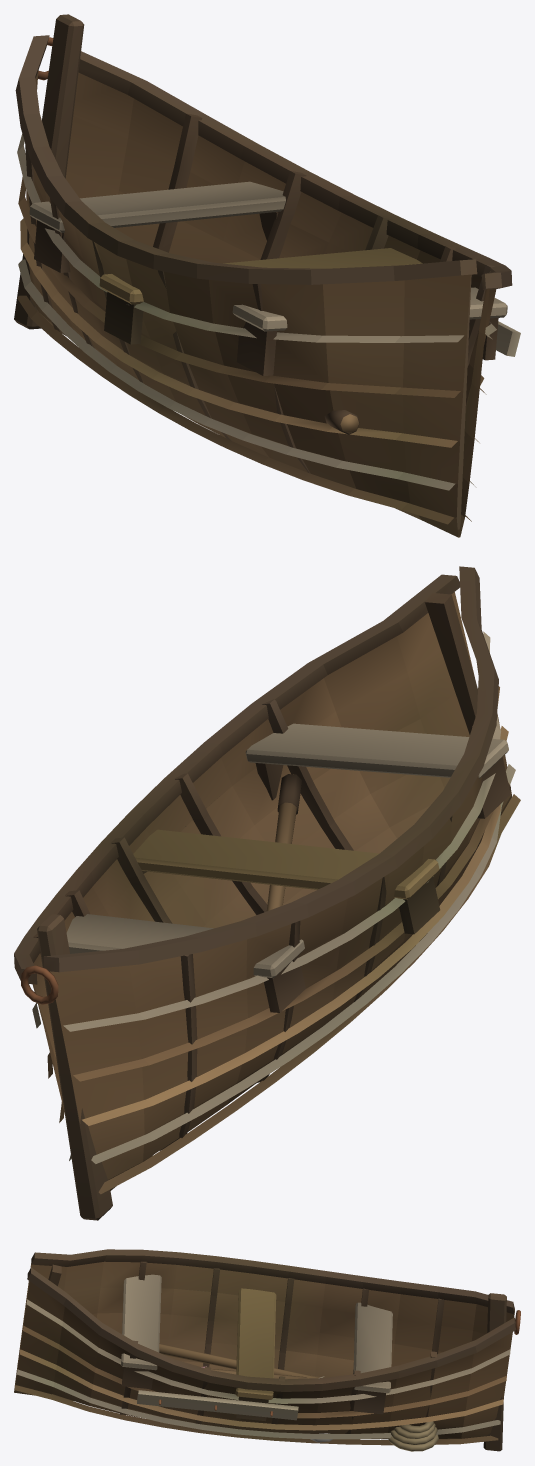
The model's file is rowboat.glb.
The picture shows the model from 3 angles, top to bottom: view 1: azimuth 30°, elevation 25°; view 2: azimuth 150°, elevation 25°; view 3: azimuth 270°, elevation 25°; orthographic projection. The views are drawn at different scales.
Visible parts, largest first — view 1: rowboat; view 2: rowboat; view 3: rowboat.
Boxes of the visible parts, <box> form: rowboat: <box>14,14,520,537</box>; rowboat: <box>14,566,520,1220</box>; rowboat: <box>14,1249,520,1451</box>.
Bounding box in the file's own units: 1.09 × 1.2 × 2.71.
